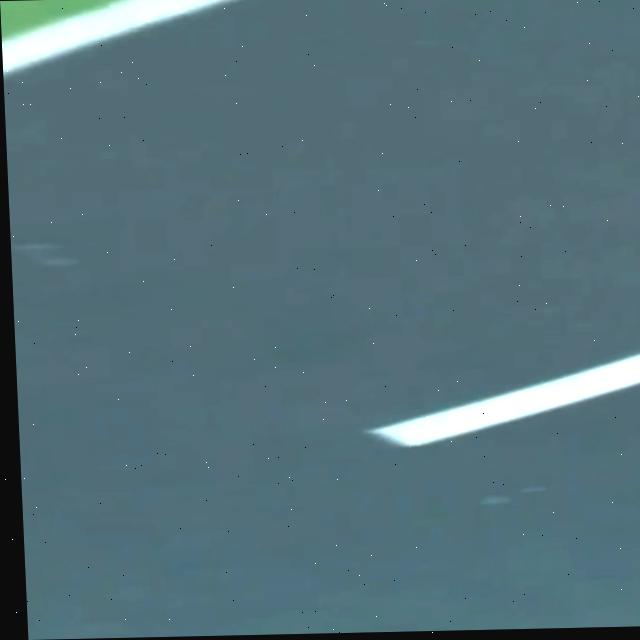center: (368, 353, 640, 446)
right: (2, 0, 232, 75)
